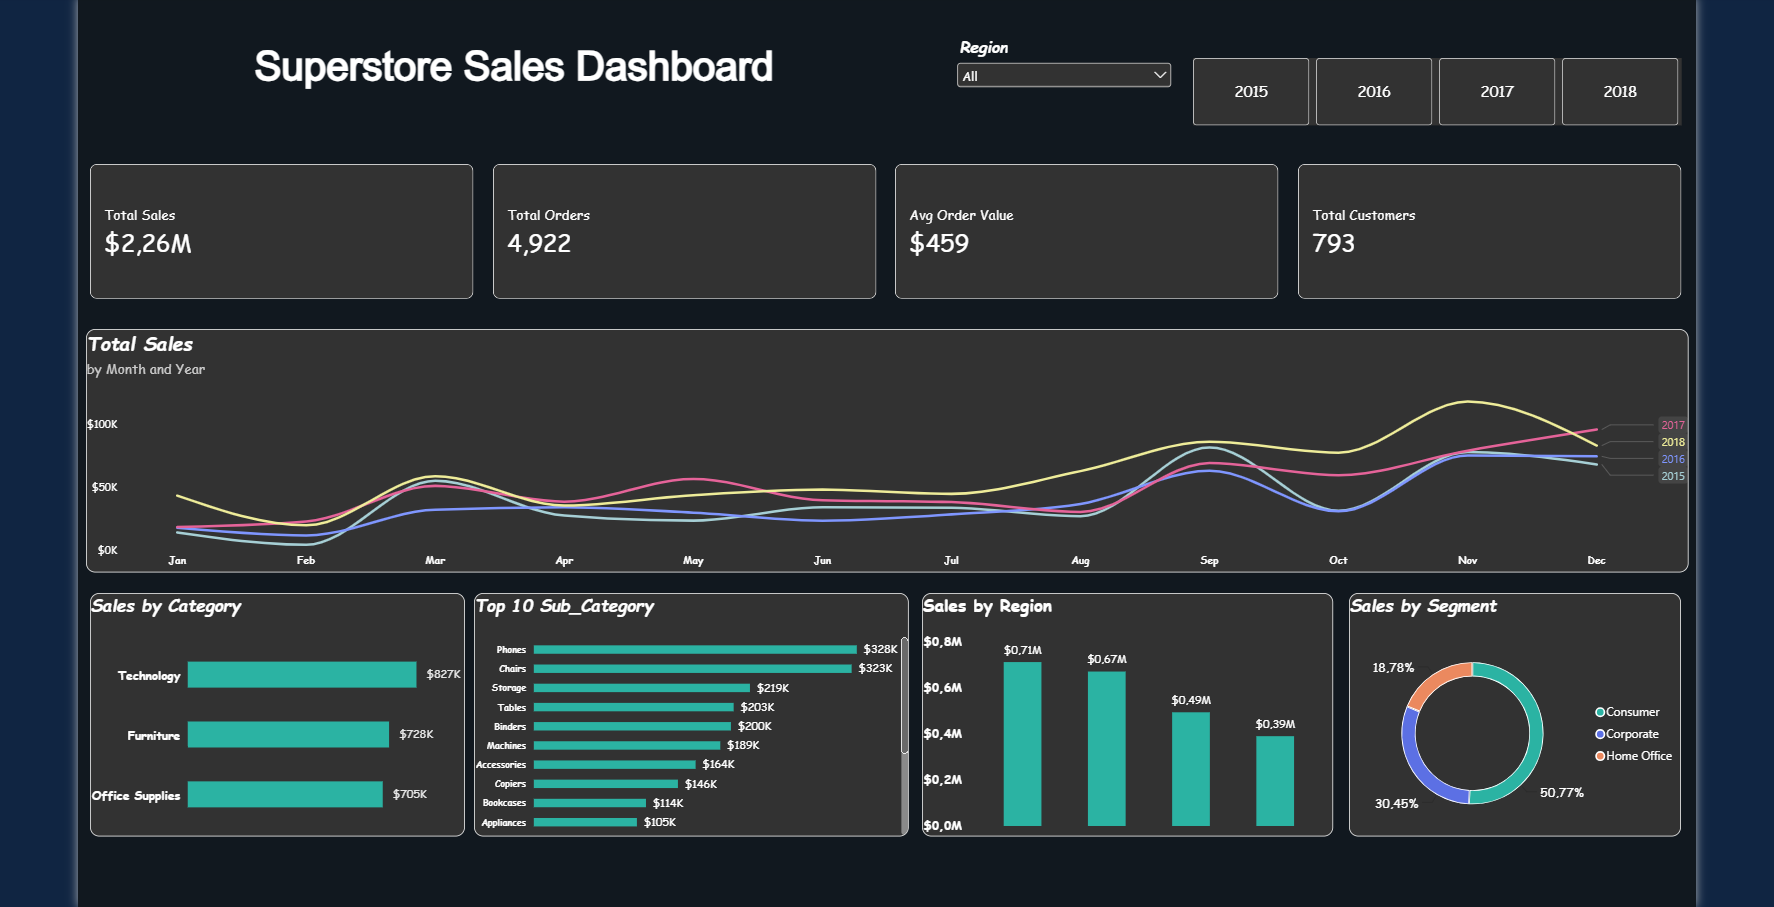

This screenshot's page, from the dashboard's own definition file:
{"tool":"powerbi","page":{"name":"Page 2","canvas":[1920,1080],"ordinal":0},"visuals":[{"type":"cardVisual","fields":{"Data":["Meaures.Total Sales"]},"box":[14.2,198,455.4,160.4],"z":0},{"type":"cardVisual","fields":{"Data":["Meaures.Total Orders Label"]},"box":[492.1,198,455.2,160.5],"z":1000},{"type":"cardVisual","fields":{"Data":["Meaures.Avg Order Value"]},"box":[969.9,198,455.2,160.5],"z":2000},{"type":"cardVisual","fields":{"Data":["Meaures.Total Customers"]},"box":[1447.8,198,455.2,160.5],"z":3000},{"type":"textbox","box":[0,47.9,1035,76.3],"z":4000},{"type":"slicer","title":"Region","fields":{"Values":["sales.region"]},"box":[1038.9,45.3,263.9,78.9],"z":5000},{"type":"advancedSlicerVisual","fields":{"Values":["Date.Year"]},"box":[1323.6,72.5,579.6,80.2],"z":6000},{"type":"lineChart","fields":{"Category":["Date.Month"],"Series":["Date.Year"],"Y":["Meaures.Total Sales"]},"box":[9.1,394.6,1902.5,288.9],"z":7000},{"type":"clusteredBarChart","title":"Sales by Category","fields":{"Category":["sales.category"],"Y":["Meaures.Total Sales"]},"box":[14.2,707.7,445.1,288.5],"z":8000},{"type":"clusteredColumnChart","title":"Sales by Region","fields":{"Category":["sales.region"],"Y":["Meaures.Total Sales"]},"box":[1001.4,707.7,487.8,288.5],"z":9000},{"type":"clusteredBarChart","title":"Top 10 Sub_Category","fields":{"Category":["sales.sub_category"],"Y":["Meaures.Total Sales"]},"box":[469.6,707.7,516.2,288.5],"z":10000},{"type":"donutChart","title":"Sales by Segment","fields":{"Category":["sales.segment"],"Y":["Meaures.Total Sales"]},"box":[1508.6,707.7,394,289],"z":11000}]}

Visuals, with their boxes in screenshot pixels (x1, y1, x2, y2):
cardVisual - Meaures.Total Sales: (left=72, top=156, right=463, bottom=293)
cardVisual - Meaures.Total Orders Label: (left=482, top=156, right=872, bottom=293)
cardVisual - Meaures.Avg Order Value: (left=891, top=156, right=1282, bottom=293)
cardVisual - Meaures.Total Customers: (left=1301, top=156, right=1691, bottom=293)
textbox: (left=60, top=27, right=947, bottom=93)
"Region" slicer: (left=951, top=25, right=1177, bottom=93)
advancedSlicerVisual - Date.Year: (left=1195, top=48, right=1692, bottom=117)
lineChart - Date.Month x Date.Year: (left=68, top=324, right=1699, bottom=572)
"Sales by Category" clusteredBarChart: (left=72, top=593, right=454, bottom=840)
"Sales by Region" clusteredColumnChart: (left=918, top=593, right=1337, bottom=840)
"Top 10 Sub_Category" clusteredBarChart: (left=463, top=593, right=905, bottom=840)
"Sales by Segment" donutChart: (left=1353, top=593, right=1691, bottom=841)
